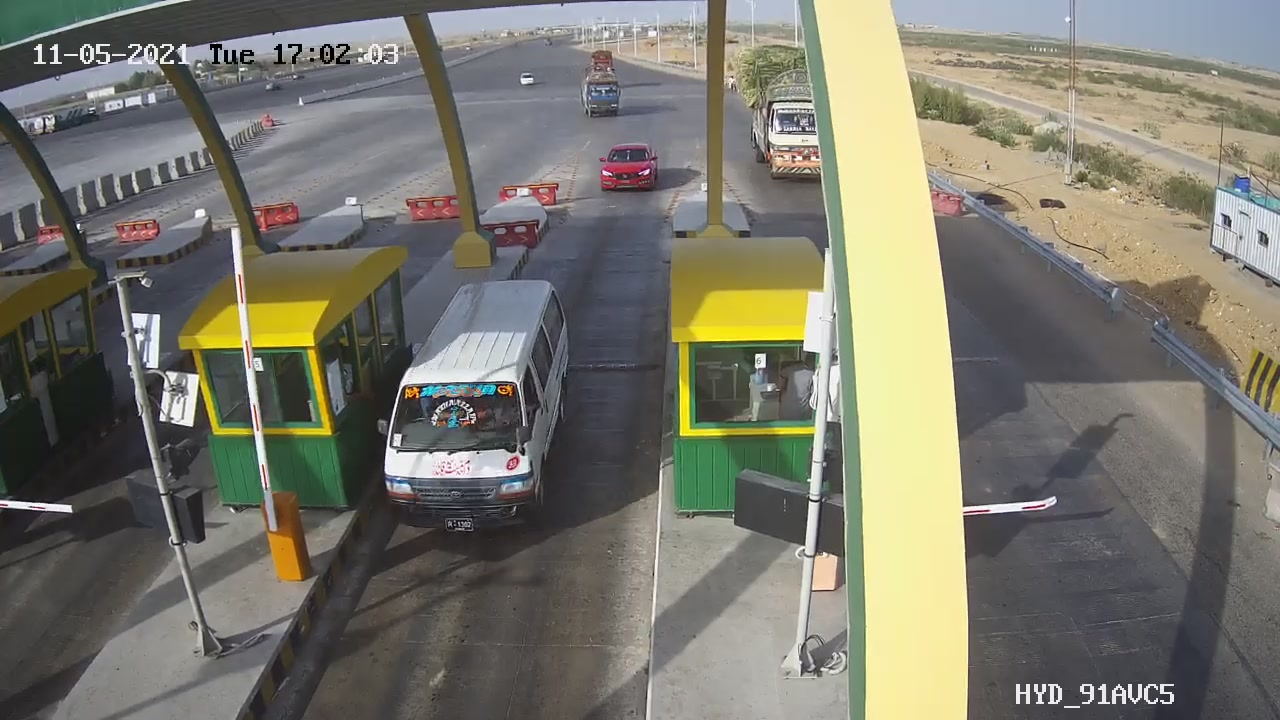F2: (369, 262, 598, 556)
